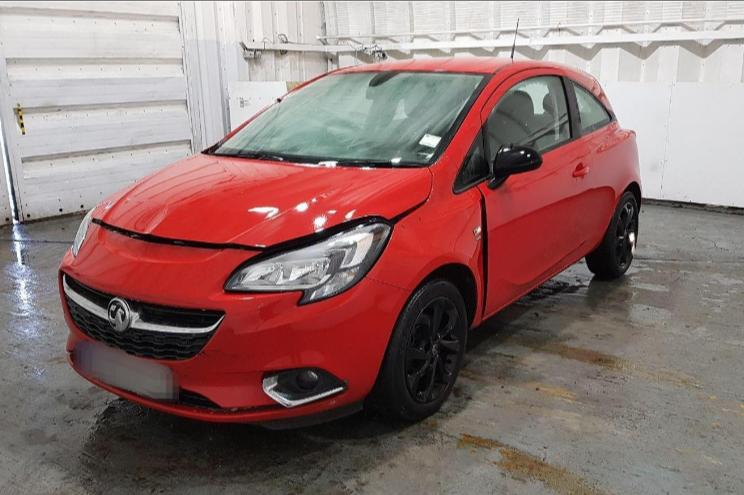Broken part: (90, 189, 431, 254), (475, 185, 490, 317)
Dent: (128, 200, 166, 233)
Paint chip: (255, 300, 265, 311), (238, 296, 255, 300), (342, 377, 349, 382)
Scratch: (209, 346, 236, 355), (193, 347, 210, 361), (417, 213, 422, 222), (400, 223, 407, 229)
